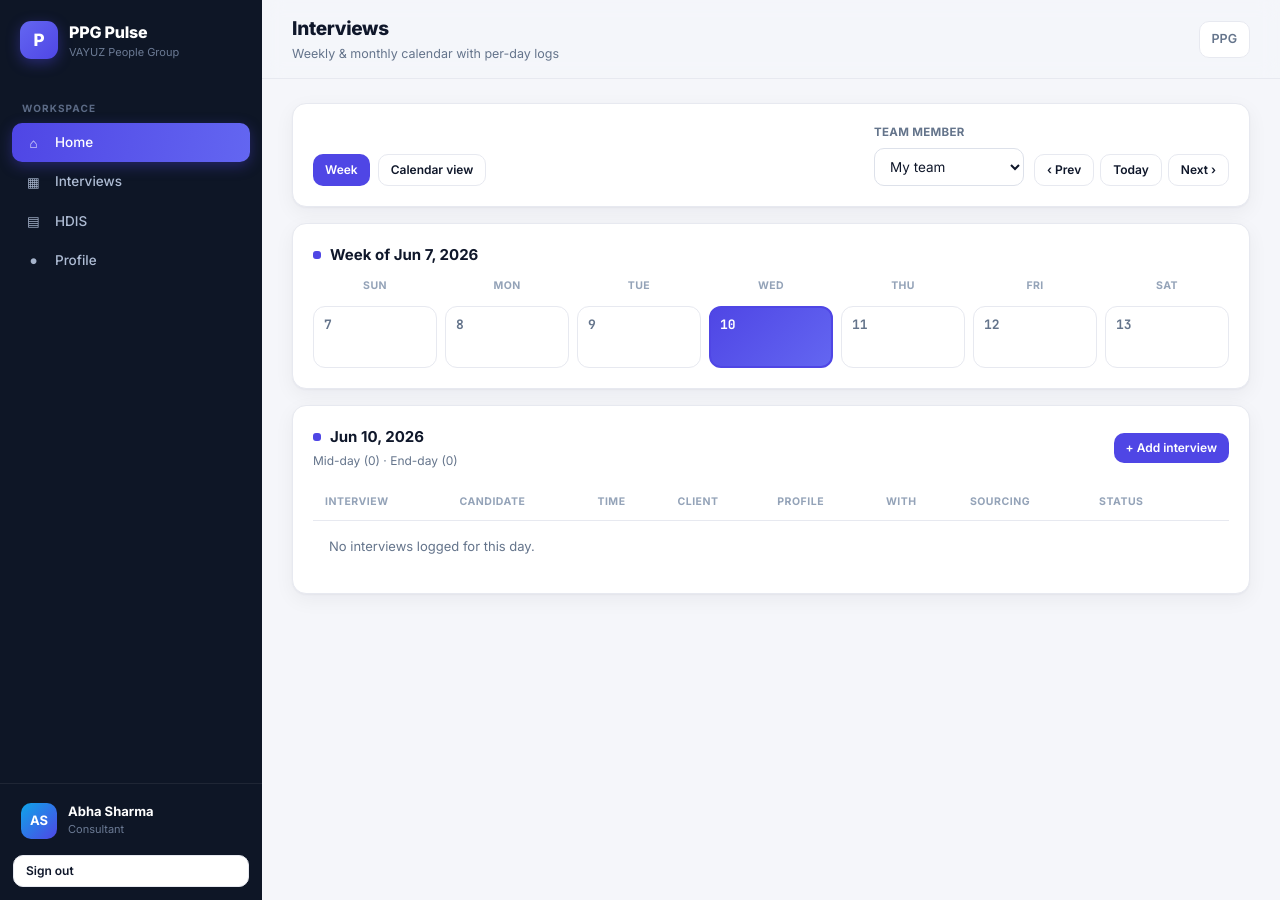
Scenario: Interviews — KPI target-color overlay › does not fetch or show the KPI legend for a consultant (no kpis permission)
What coordinates should you click on to do the following:
click the button "Calendar view"
I would click on:
 (432, 170)
Its box is left=378, top=154, right=486, bottom=186.
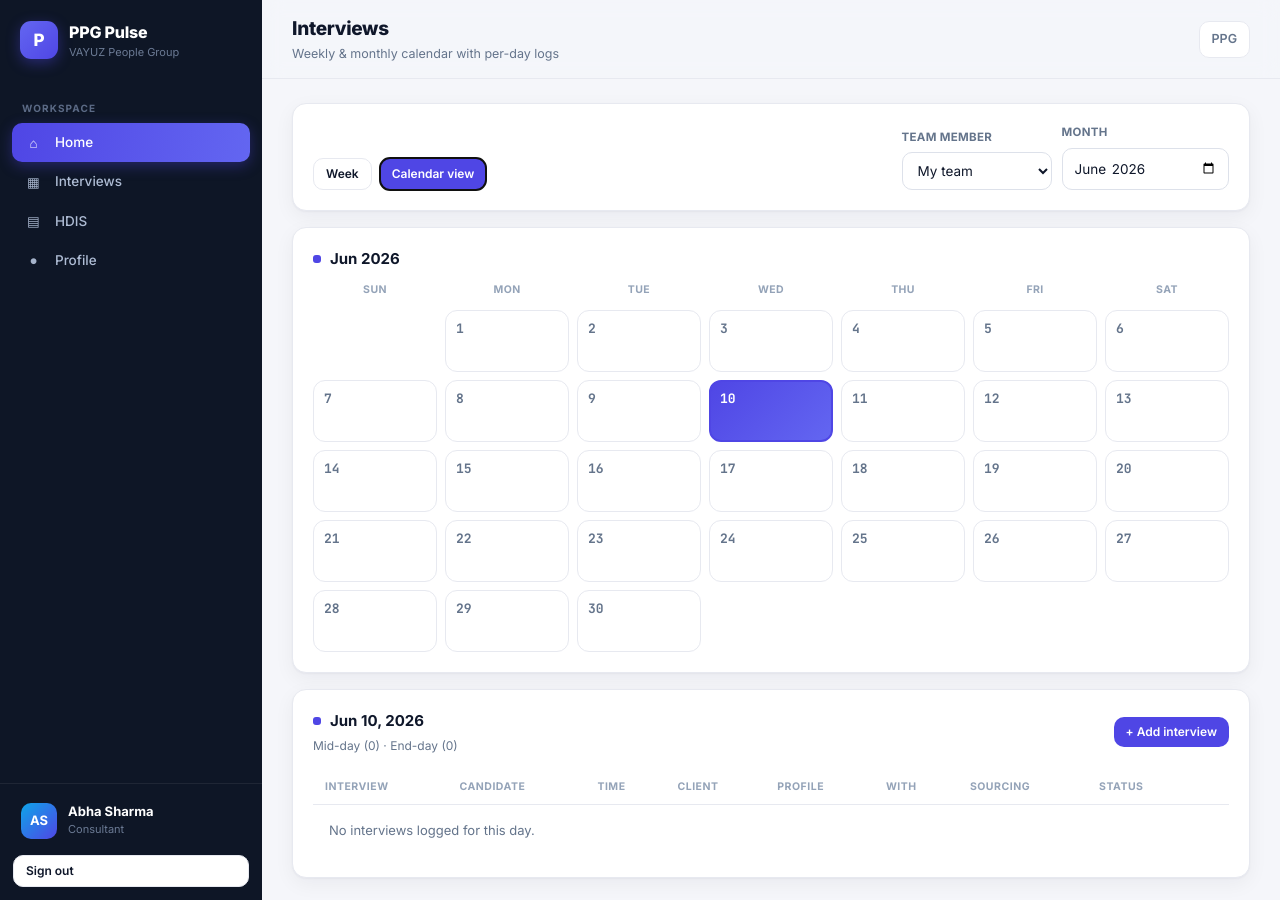
Expected: the text "Jun 2026" is shown, left=313, top=249, right=400, bottom=268
